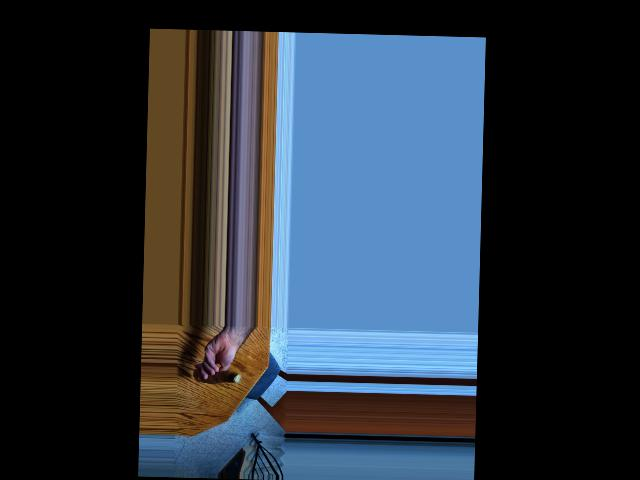sweet_potato: (192, 364, 242, 385)
